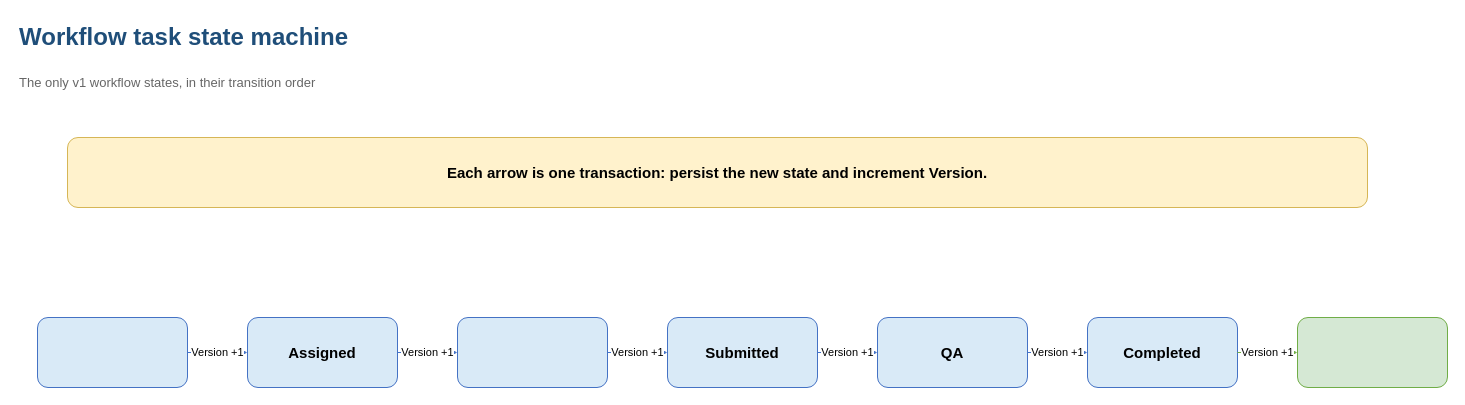
This 1465x405 diagram has some shape labels left out. Here are the shapes that lost their labels. From the top down, the centre of each, then its label:
point 112,352: Created
point 532,352: InProgress
point 1372,352: Delivered
